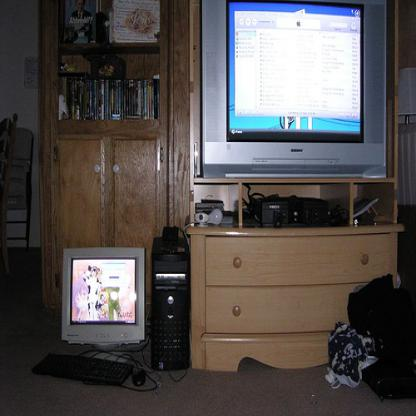tvmonitor: (201, 0, 387, 178), (60, 245, 146, 363)
